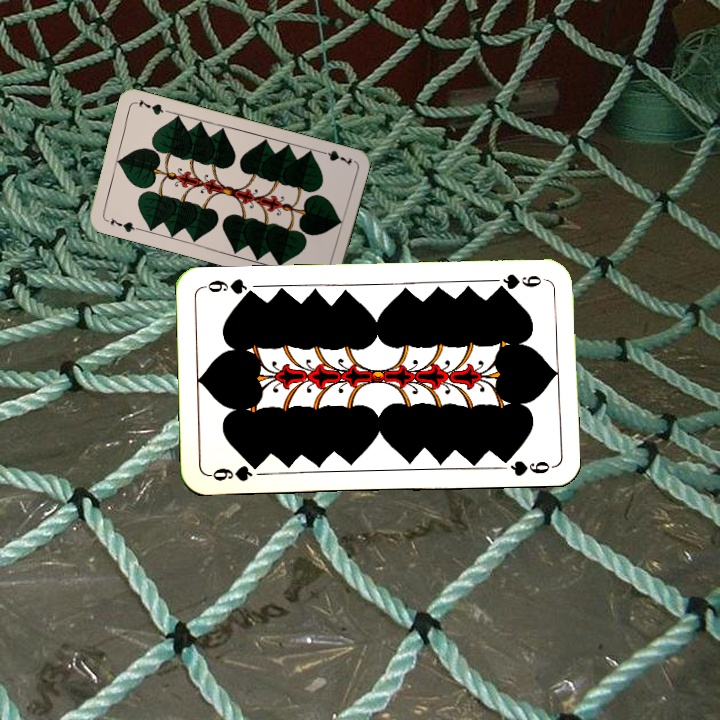G7: (315, 146, 355, 168), (101, 214, 141, 235)
G9: (205, 458, 264, 484), (490, 270, 549, 294)
